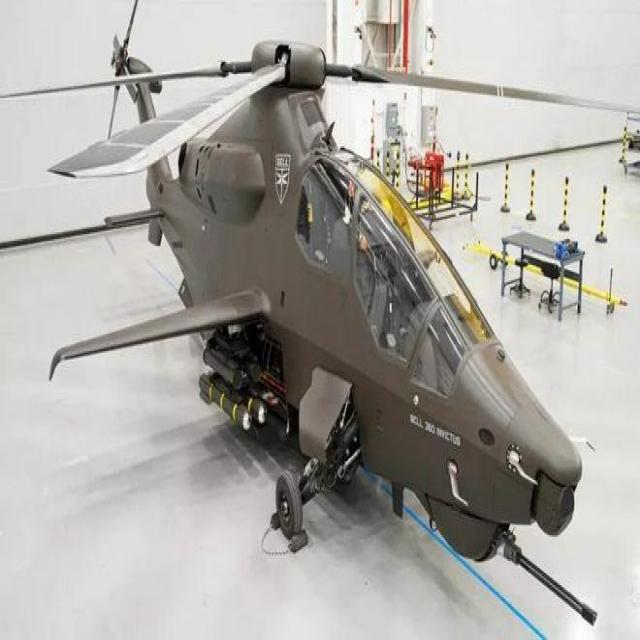MIL_HELO: (15, 5, 636, 629)
